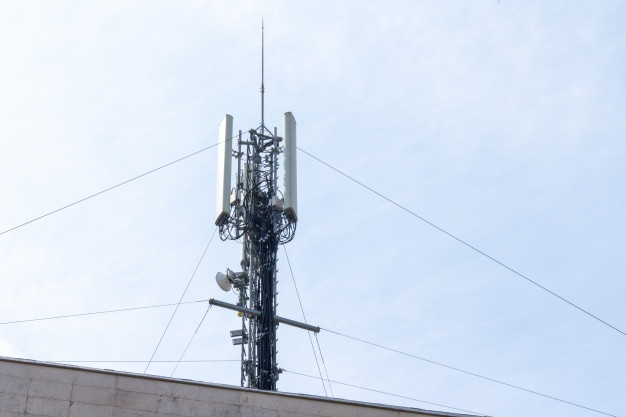a: (279, 109, 307, 224), (214, 114, 235, 229)
b: (214, 270, 232, 294)
